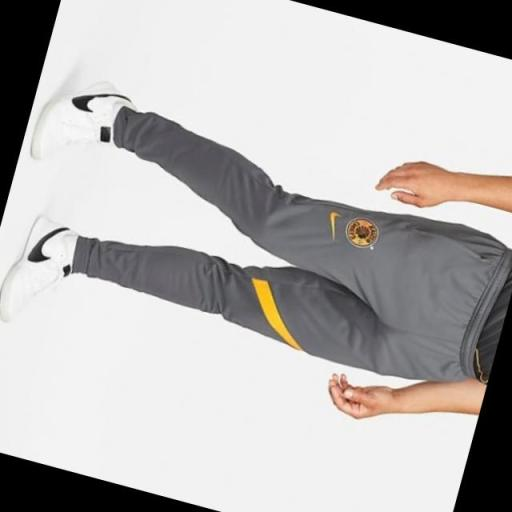Nike: (320, 207, 346, 247)
